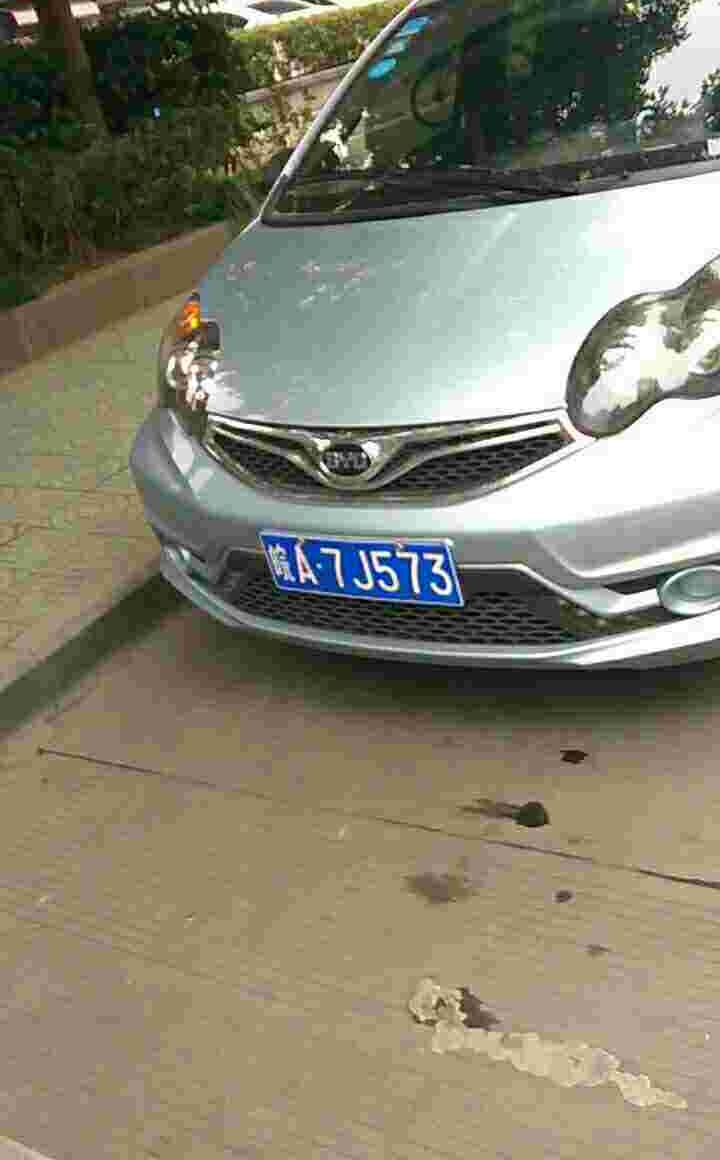car: (253, 529, 461, 612)
